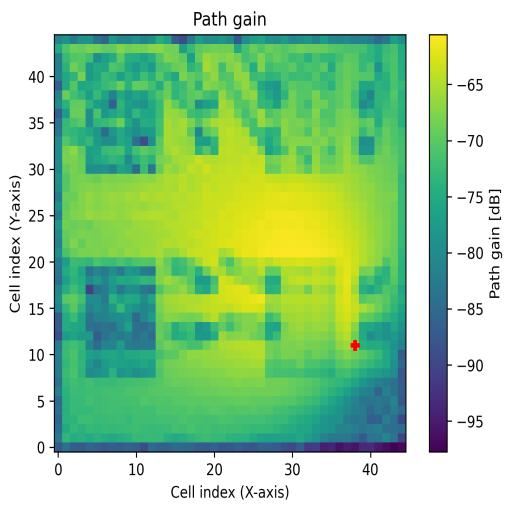Concrete: (266, 53, 343, 174)
Glass: (85, 52, 164, 175)
Metal: (266, 266, 335, 377)
Wood: (86, 266, 156, 378)
